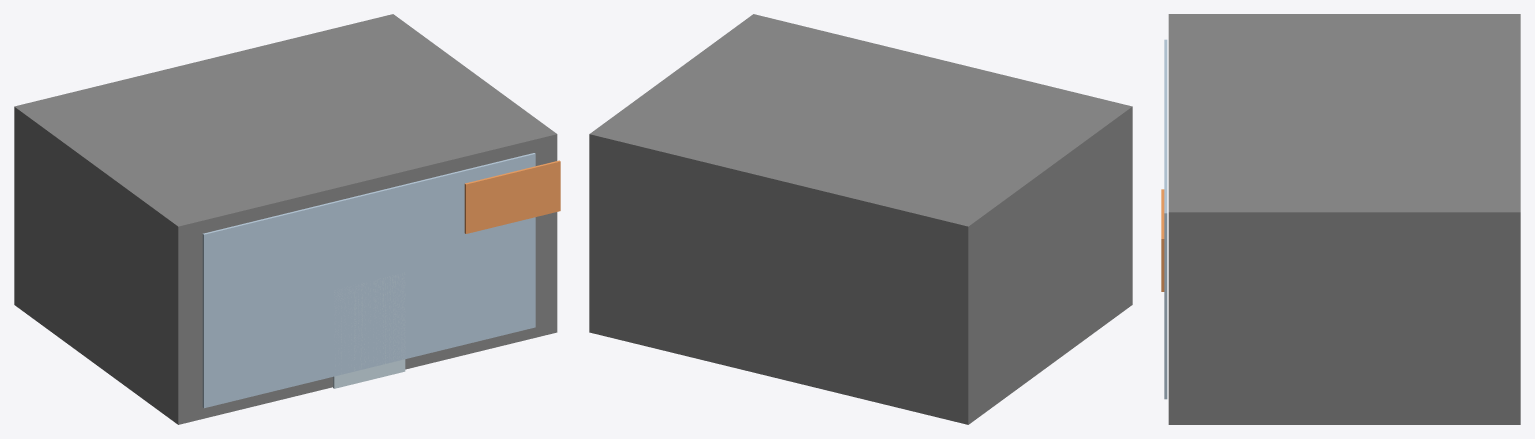
The model's file is env-mod-gym.glb.
3 views of the same model, side by side, from view 1: azimuth 30°, elevation 25°; view 2: azimuth 150°, elevation 25°; view 3: azimuth 270°, elevation 25° (orthographic). The views are drawn at different scales.
Bounding box in the file's own units: 8 × 4 × 6.12.
